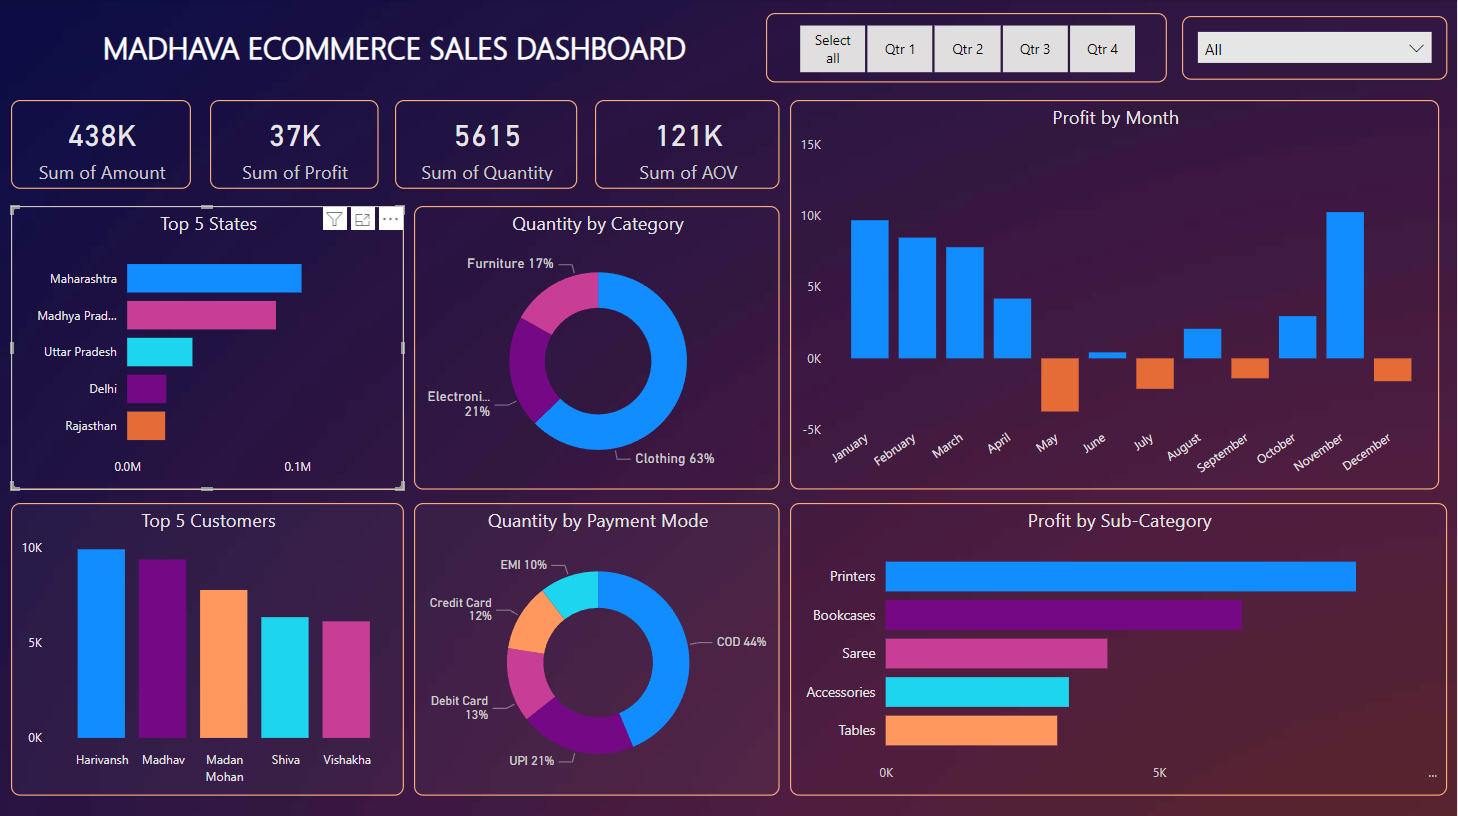

Layout of this report page (visuals, bound fields, positions):
{"tool":"powerbi","page":{"name":"Page 1","canvas":[1280,720],"ordinal":0},"visuals":[{"type":"textbox","box":[43.9,18.4,605,50.9],"z":0},{"type":"columnChart","title":"Profit by Month","fields":{"Category":["Orders.Order Date.Variation.Date Hierarchy.Month"],"Y":["Details.Profit"]},"box":[693.7,88.7,569.9,342.4],"z":1000},{"type":"donutChart","title":"Quantity by Payment Mode","fields":{"Y":["Details.Quantity"],"Category":["Details.PaymentMode"]},"box":[363.5,442.5,321.4,257.3],"z":2000},{"type":"donutChart","title":"Quantity by Category","fields":{"Y":["Details.Quantity"],"Category":["Details.Category"]},"box":[363.5,181.8,321.4,249.4],"z":3000},{"type":"barChart","title":"Top 5 States","fields":{"Y":["Details.Amount"],"Category":["Orders.State"]},"box":[9.7,181.8,345.1,249.4],"z":4000},{"type":"columnChart","title":"Top 5 Customers","fields":{"Category":["Orders.CustomerName"],"Y":["Details.Amount"]},"box":[9.7,442.5,345.1,257.3],"z":5000},{"type":"card","fields":{"Values":["Details.Amount"]},"box":[9.7,88.7,158,78.1],"z":6000},{"type":"barChart","title":"Profit by Sub-Category","fields":{"Y":["Details.Profit"],"Category":["Details.Sub-Category"]},"box":[693.7,442.5,576.9,257.3],"z":7000},{"type":"card","fields":{"Values":["Details.Profit"]},"box":[184.4,88.7,147.5,78.1],"z":8000},{"type":"card","fields":{"Values":["Details.Quantity"]},"box":[346.8,88.7,159.8,78.1],"z":9000},{"type":"card","fields":{"Values":["Details.Avg Order Value"]},"box":[522.4,88.7,162.4,78.1],"z":10000},{"type":"slicer","fields":{"Values":["Orders.Order Date.Variation.Date Hierarchy.Quarter"]},"box":[672.6,12.2,352.1,60.6],"z":11000},{"type":"slicer","title":"States","fields":{"Values":["Orders.State"]},"box":[1037.9,14.8,232.7,56.2],"z":12000}]}

Visuals, with their boxes in screenshot pixels (x1, y1, x2, y2), scaled from the page's 1280x720 canvas onto the 1458x816 screenshot:
textbox: detection(50, 21, 739, 79)
"Profit by Month" columnChart: detection(790, 101, 1439, 489)
"Quantity by Payment Mode" donutChart: detection(414, 502, 780, 793)
"Quantity by Category" donutChart: detection(414, 206, 780, 489)
"Top 5 States" barChart: detection(11, 206, 404, 489)
"Top 5 Customers" columnChart: detection(11, 502, 404, 793)
card - Details.Amount: detection(11, 101, 191, 189)
"Profit by Sub-Category" barChart: detection(790, 502, 1447, 793)
card - Details.Profit: detection(210, 101, 378, 189)
card - Details.Quantity: detection(395, 101, 577, 189)
card - Details.Avg Order Value: detection(595, 101, 780, 189)
slicer - Orders.Order Date.Variation.Date Hierarchy.Quarter: detection(766, 14, 1167, 83)
"States" slicer: detection(1182, 17, 1447, 80)
